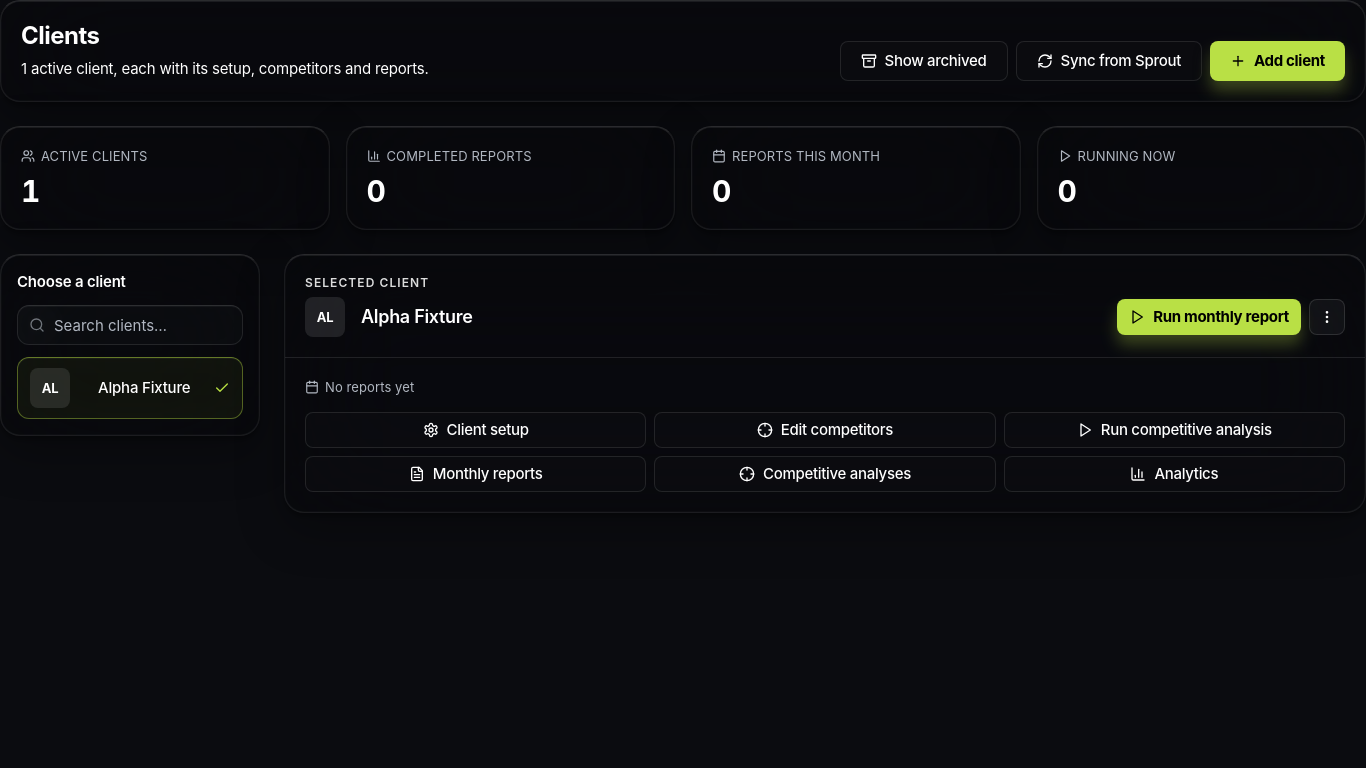
Test: who sees Sync from Sprout › without a real sign-in (the editor's preview) the server is never asked, on opening or on a press
Click the button "Sync from Sprout": [1109, 61] box [1016,41,1202,81]
Wait 20 ms
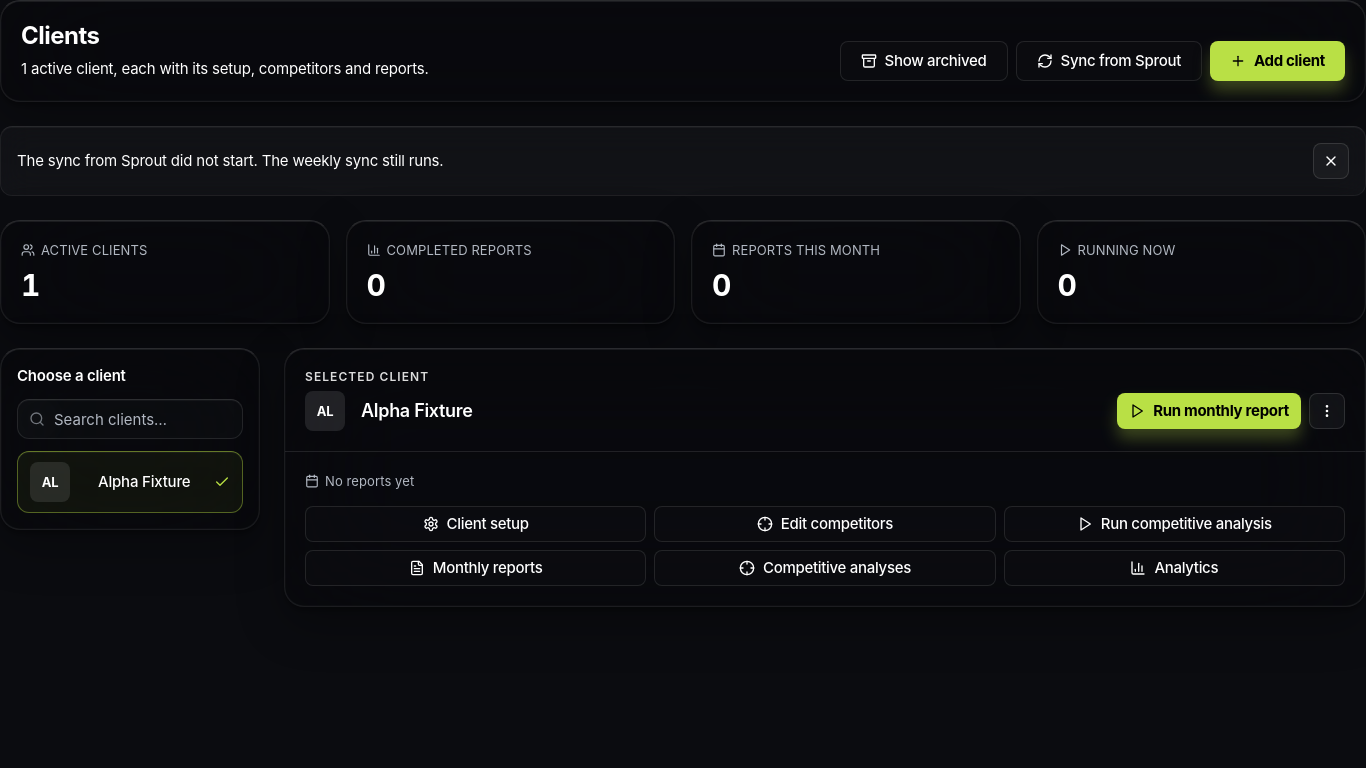
Result: the message reads "The sync from Sprout did not start. The weekly sync still runs." at [17,151,443,170]
